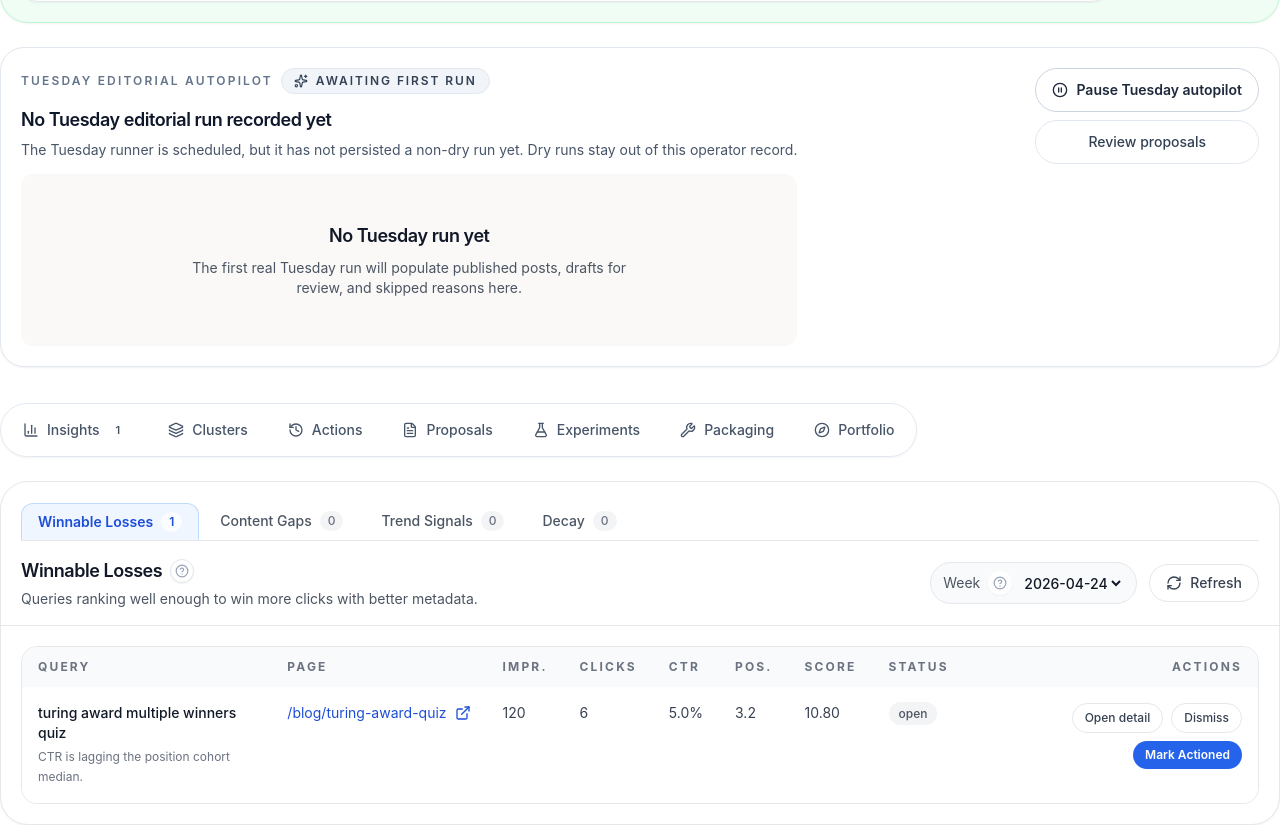
Test case: SeoInsightsPage › queues an editorial proposal from a content-gap detail drawer
(page scrolled)
Expected: the text "turing award multiple winners quiz" is shown, x1=38 y1=703 x2=255 y2=743
Step 1. Click the tab "Content Gaps 0" → point(282, 521), box x1=203 y1=502 x2=360 y2=540
(page scrolled)
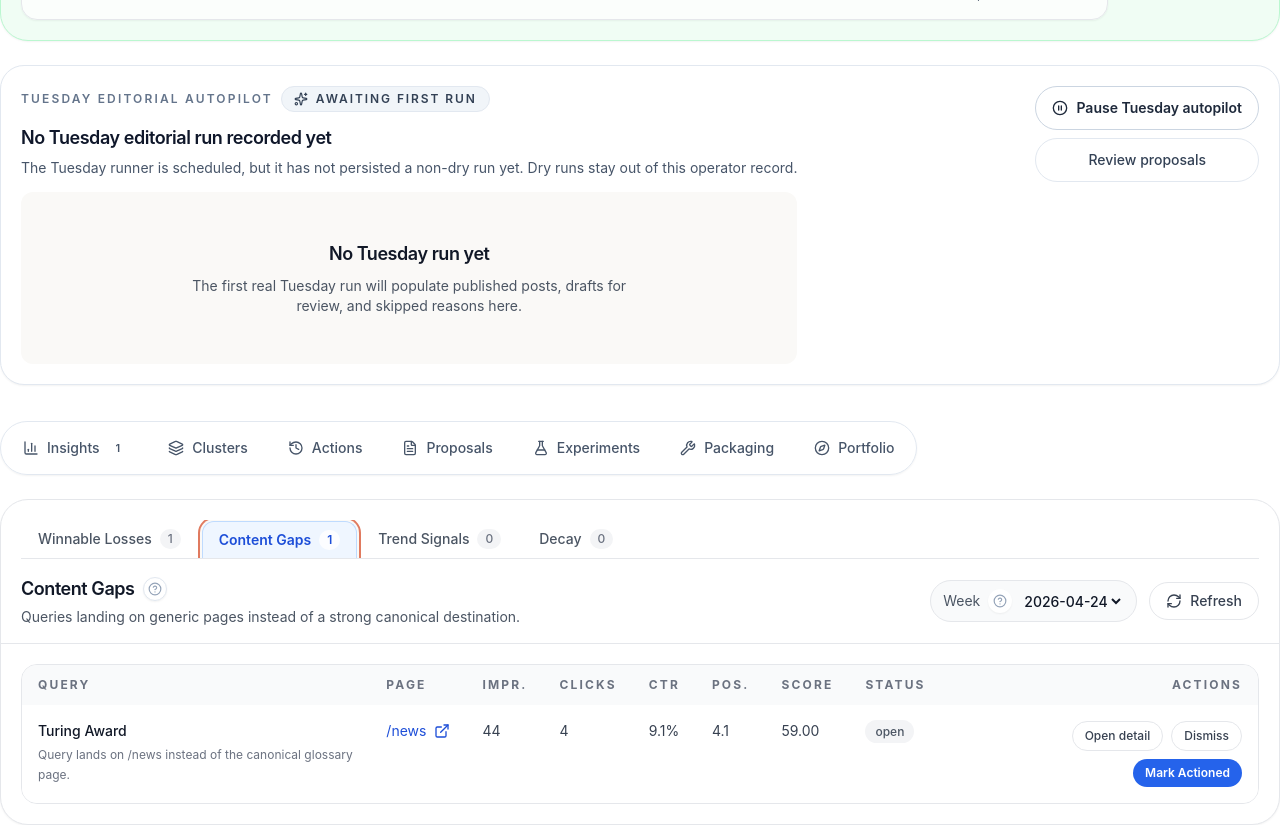
Expected: the text "Turing Award" is shown, x1=38 y1=722 x2=127 y2=739
Step 2. Click the button "Open detail" → point(1118, 736), box x1=1072 y1=721 x2=1163 y2=751
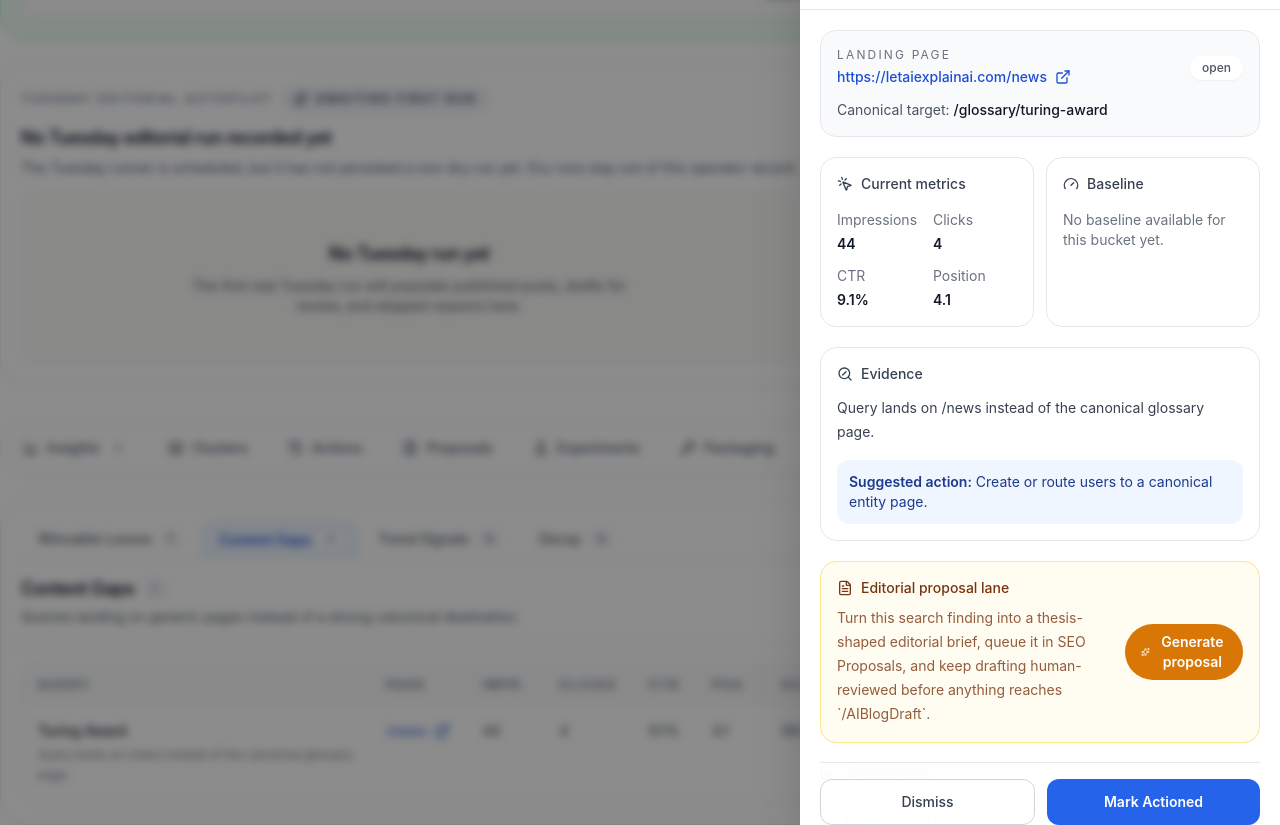
Now the text "Editorial proposal lane" is shown, box x1=837 y1=579 x2=1009 y2=596
Step 3. Click the button "Generate proposal" → point(1184, 652), box x1=1125 y1=624 x2=1243 y2=680
(page scrolled)
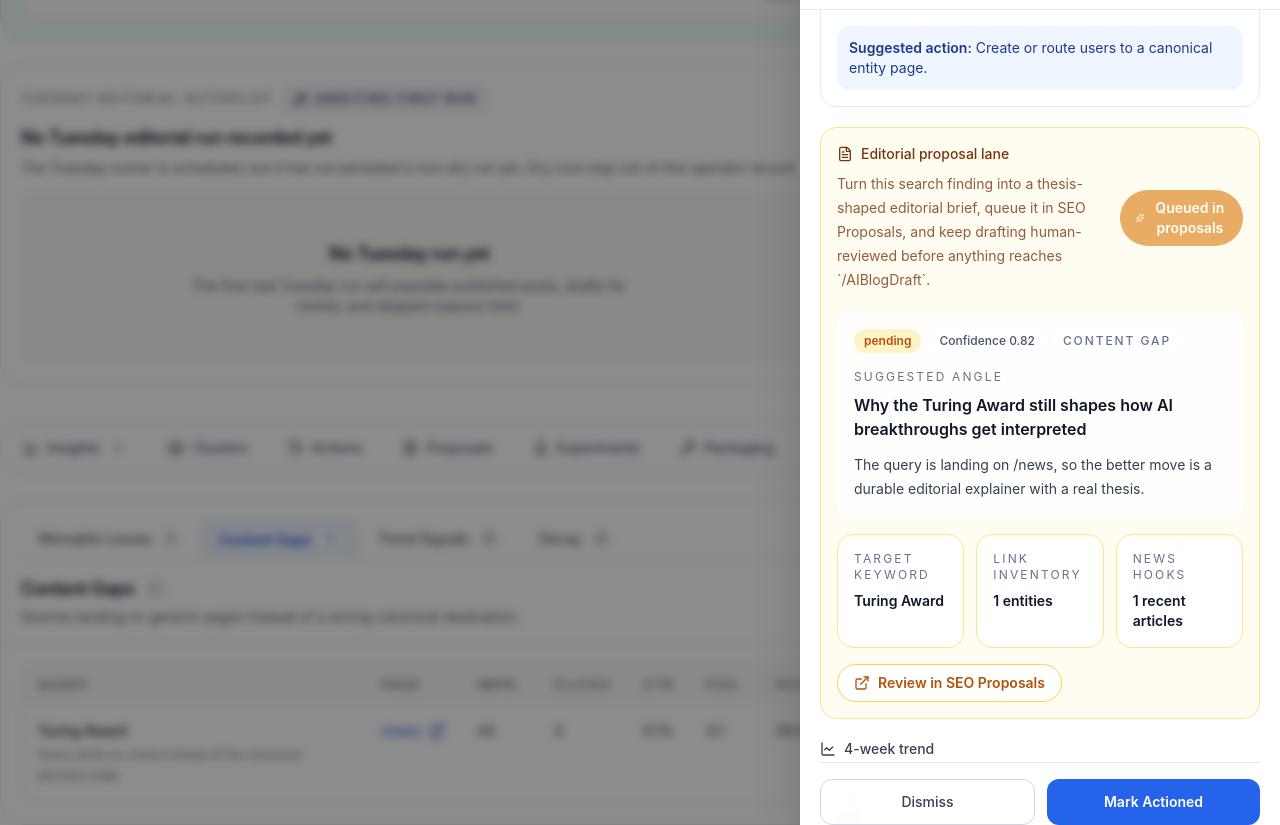
Now the element with test id "seo-content-proposal" is shown, box x1=837 y1=312 x2=1243 y2=702
Now the text "Why the Turing Award still shapes how AI breakthroughs get interpreted" is shown, box x1=854 y1=393 x2=1226 y2=441
